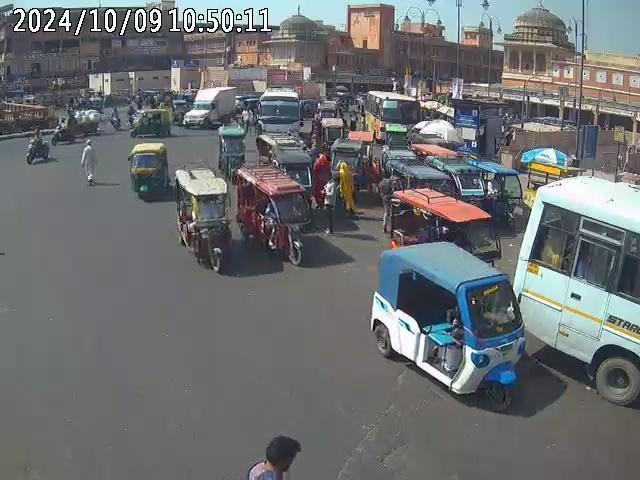auto: (367, 240, 527, 408), (383, 183, 502, 267), (232, 162, 313, 264), (172, 165, 235, 273), (127, 141, 170, 201), (216, 126, 248, 173)
bus: (517, 173, 639, 408), (363, 88, 418, 144), (256, 84, 303, 142)
lorry: (179, 85, 237, 130)
person: (242, 433, 306, 480), (333, 154, 357, 218), (79, 137, 98, 185)
scooty-rider: (24, 128, 55, 165)
